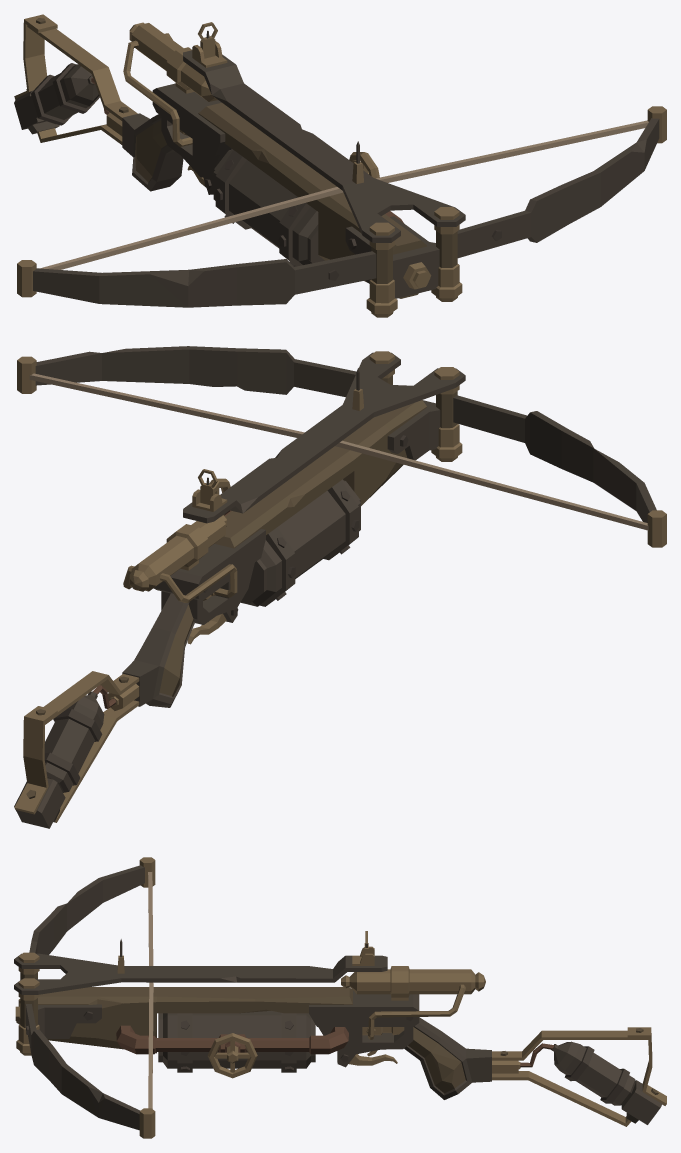
The model's file is Crossbow_01.fbx.
3 renders of one model, top to bottom at view 1: azimuth 30°, elevation 25°; view 2: azimuth 150°, elevation 25°; view 3: azimuth 270°, elevation 25°, orthographic. The views are drawn at different scales.
Parts seen in each view (by area): view 1: Crossbow_01; view 2: Crossbow_01; view 3: Crossbow_01.
Boxes of the visible parts, box(x1,y1,x2,y2) form: Crossbow_01: box(14, 14, 666, 317); Crossbow_01: box(14, 346, 666, 828); Crossbow_01: box(14, 857, 666, 1138).
Bounding box in the file's own units: 1.03 × 0.3583 × 1.11.
